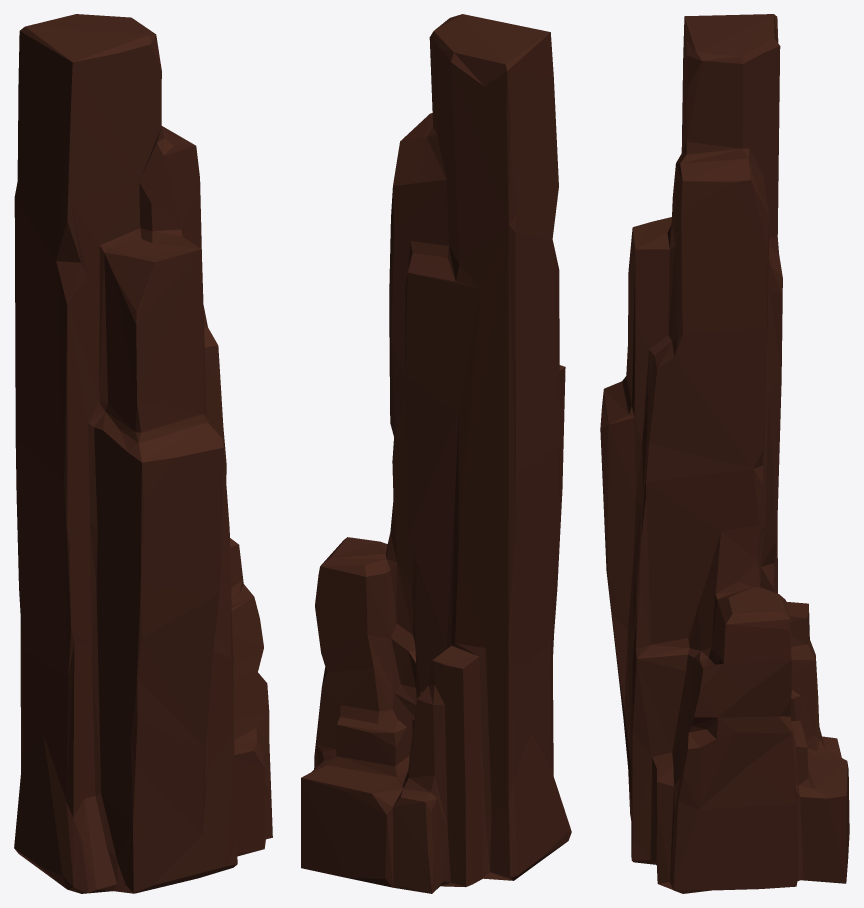
Rendered from sc_FeiTu_mesh_shan14.FBX.
The picture shows the model from 3 angles, left to right: view 1: azimuth 30°, elevation 25°; view 2: azimuth 150°, elevation 25°; view 3: azimuth 270°, elevation 25°; orthographic projection. The views are drawn at different scales.
Parts seen in each view (by area): view 1: mesh_shan14; view 2: mesh_shan14; view 3: mesh_shan14.
Part boxes in pixels (box(x1,y1,x2,y2)): mesh_shan14: box(14, 14, 272, 893); mesh_shan14: box(301, 14, 571, 893); mesh_shan14: box(600, 14, 849, 893).
Bounding box in the file's own units: 393 × 1484 × 423.
